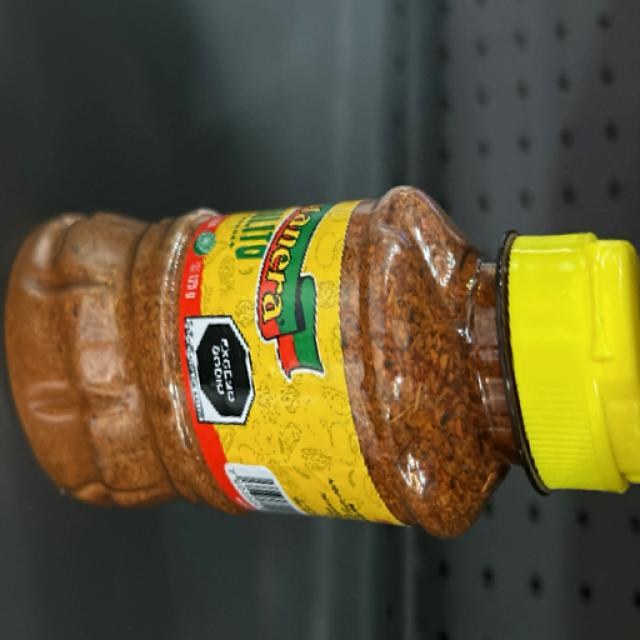botaneraChilito: (0, 196, 640, 511)
